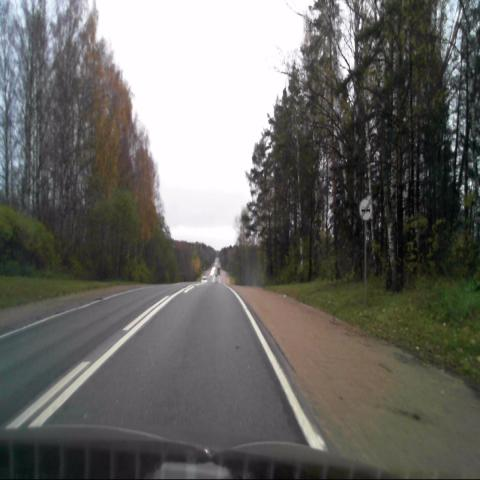3_21: (359, 198, 372, 222)
